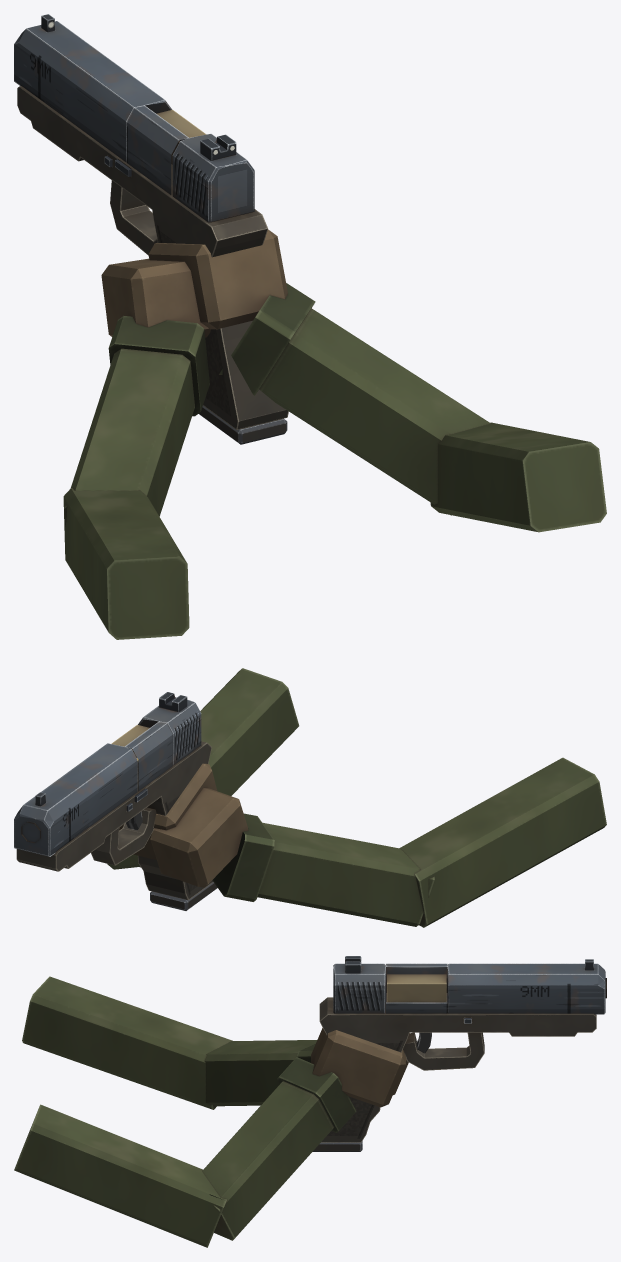
File: Pistola9mm_VM.glb
The picture shows the model from 3 angles, top to bottom: view 1: azimuth 30°, elevation 25°; view 2: azimuth 150°, elevation 25°; view 3: azimuth 270°, elevation 25°; orthographic projection. The views are drawn at different scales.
Parts seen in each view (by area): view 1: RightLowerArm.001, Corredera_VM.001, LeftLowerArm.001, RightUpperArm.001, Armazon_VM.001, LeftUpperArm.001, RightHand.001, LeftHand.001, Cargador_VM.001; view 2: LeftUpperArm.001, LeftLowerArm.001, Corredera_VM.001, RightUpperArm.001, Armazon_VM.001, LeftHand.001, RightHand.001, Cargador_VM.001; view 3: RightUpperArm.001, Corredera_VM.001, LeftUpperArm.001, RightLowerArm.001, Armazon_VM.001, LeftLowerArm.001, RightHand.001, Cargador_VM.001.
Boxes of the visible parts, x1=… form: RightLowerArm.001: x1=219, y1=283, x2=490, y2=515; Corredera_VM.001: x1=14, y1=14, x2=254, y2=222; LeftLowerArm.001: x1=64, y1=316, x2=209, y2=526; RightUpperArm.001: x1=430, y1=422, x2=606, y2=532; Armazon_VM.001: x1=17, y1=86, x2=288, y2=429; LeftUpperArm.001: x1=63, y1=488, x2=189, y2=639; RightHand.001: x1=148, y1=229, x2=287, y2=329; LeftHand.001: x1=101, y1=258, x2=210, y2=337; Cargador_VM.001: x1=199, y1=406, x2=287, y2=444; LeftUpperArm.001: x1=399, y1=757, x2=606, y2=927; LeftLowerArm.001: x1=212, y1=813, x2=434, y2=926; Corredera_VM.001: x1=14, y1=692, x2=201, y2=856; RightUpperArm.001: x1=140, y1=668, x2=299, y2=867; Armazon_VM.001: x1=16, y1=741, x2=213, y2=900; LeftHand.001: x1=150, y1=788, x2=248, y2=887; RightHand.001: x1=119, y1=763, x2=217, y2=859; Cargador_VM.001: x1=150, y1=882, x2=217, y2=910; RightUpperArm.001: x1=14, y1=1104, x2=226, y2=1247; Corredera_VM.001: x1=333, y1=956, x2=606, y2=1014; LeftUpperArm.001: x1=22, y1=976, x2=232, y2=1109; RightLowerArm.001: x1=202, y1=1057, x2=356, y2=1240; Armazon_VM.001: x1=319, y1=997, x2=596, y2=1142; LeftLowerArm.001: x1=204, y1=1040, x2=317, y2=1106; RightHand.001: x1=311, y1=1028, x2=405, y2=1107; Cargador_VM.001: x1=312, y1=1141, x2=362, y2=1151.
Bounding box in the file's own units: 2.31 × 1.38 × 3.27.
2 materials, 2 textured.
